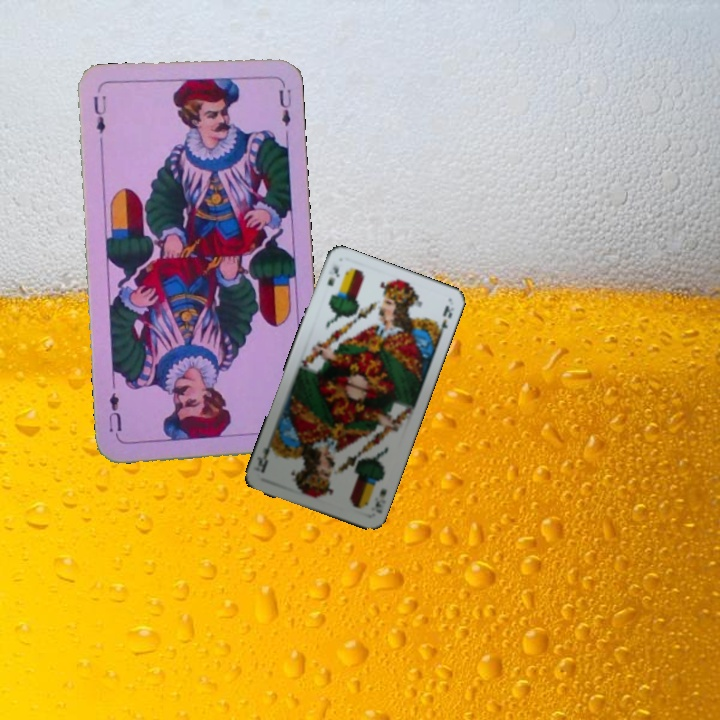EK: (323, 262, 342, 289), (371, 484, 389, 510)
EU: (89, 92, 109, 148)
